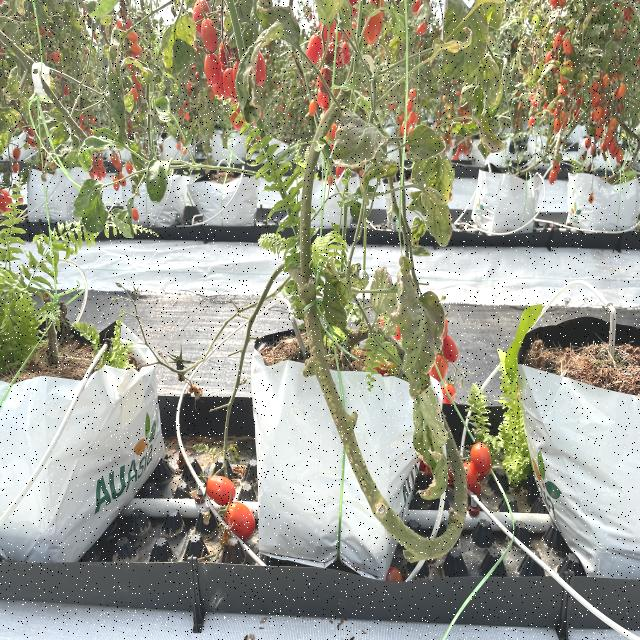Obstacle: (0, 342, 114, 534)
Soilbag: (252, 330, 438, 579), (2, 321, 170, 565), (507, 308, 637, 580)
plant: (289, 14, 478, 572)
